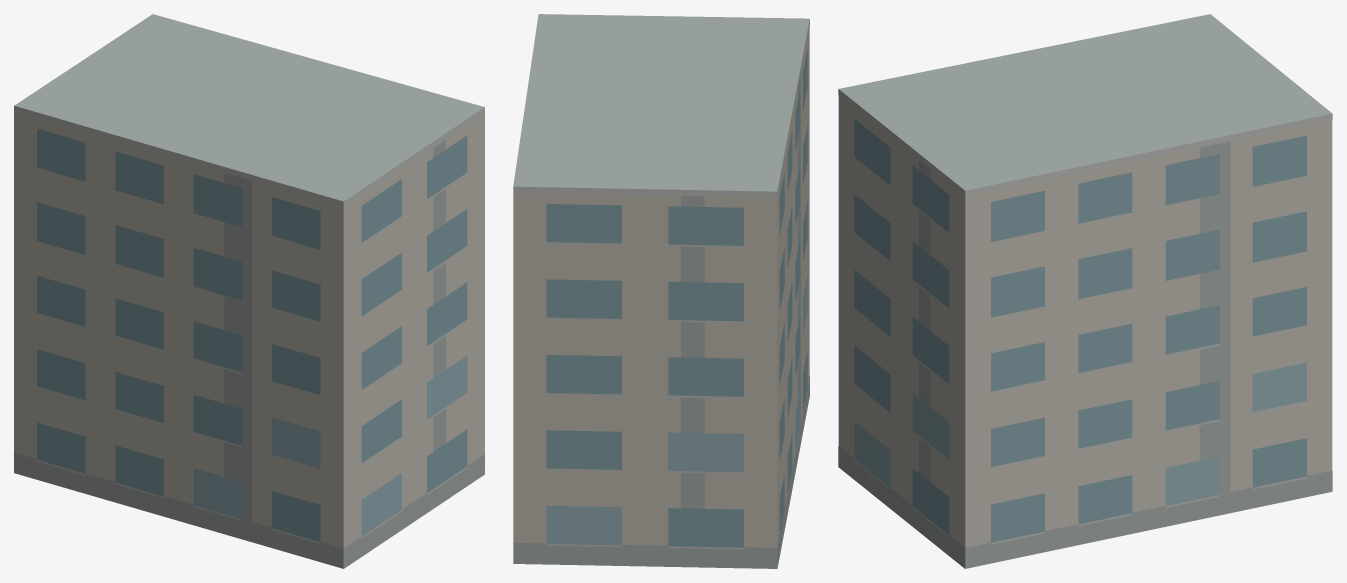
The model's file is survey-upis-32885818.glb.
The picture shows the model from 3 angles, left to right: view 1: azimuth 30°, elevation 25°; view 2: azimuth 150°, elevation 25°; view 3: azimuth 270°, elevation 25°; orthographic projection. The views are drawn at different scales.
Visible parts, largest first — view 1: survey-upis-32885818.tmp; view 2: survey-upis-32885818.tmp; view 3: survey-upis-32885818.tmp.
Boxes of the visible parts, box(x1,y1,x2,y2) form: survey-upis-32885818.tmp: box(14, 14, 484, 568); survey-upis-32885818.tmp: box(513, 14, 809, 568); survey-upis-32885818.tmp: box(838, 14, 1332, 568).
Bounding box in the file's own units: 14.53 × 14.5 × 17.17.
